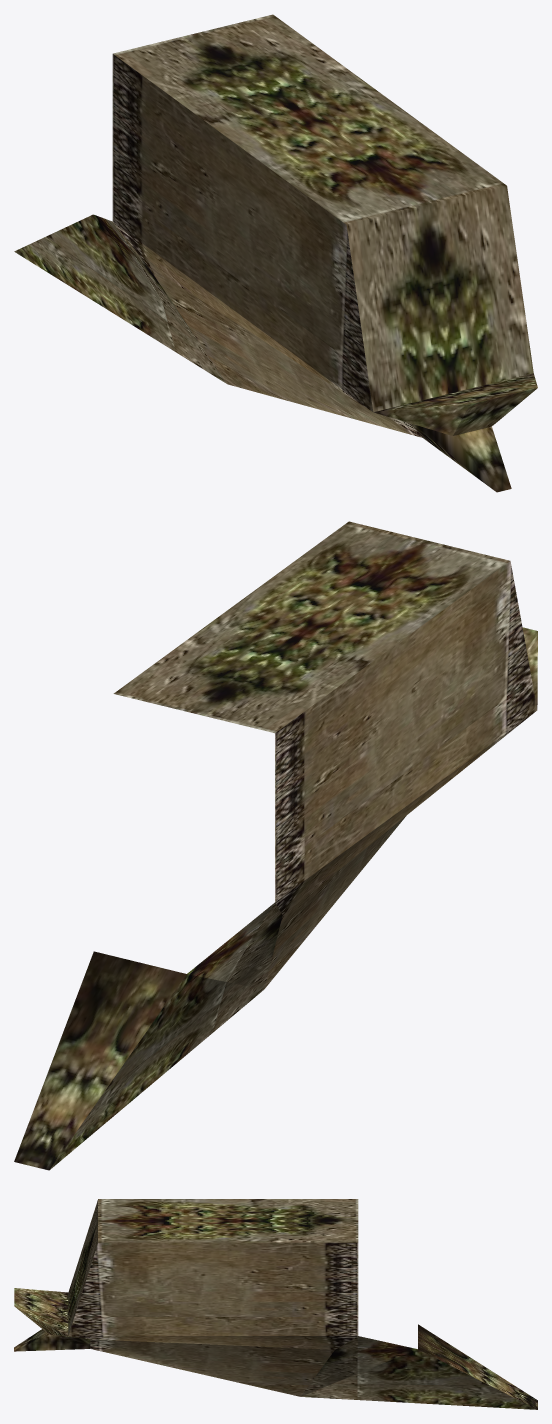
Rendered from StoneMuWall02.glb.
3 views of the same model, one above another, from view 1: azimuth 30°, elevation 25°; view 2: azimuth 150°, elevation 25°; view 3: azimuth 270°, elevation 25° (orthographic). The views are drawn at different scales.
Visible parts, largest first — view 1: model_StoneMuWall02; view 2: model_StoneMuWall02; view 3: model_StoneMuWall02.
Boxes of the visible parts, box(x1,y1,x2,y2) form: model_StoneMuWall02: box(14, 14, 537, 492); model_StoneMuWall02: box(14, 521, 537, 1170); model_StoneMuWall02: box(14, 1199, 537, 1409).
Bounding box in the file's own units: 1 × 1.97 × 5.08.
Materials: 3 (3 with a texture image).
